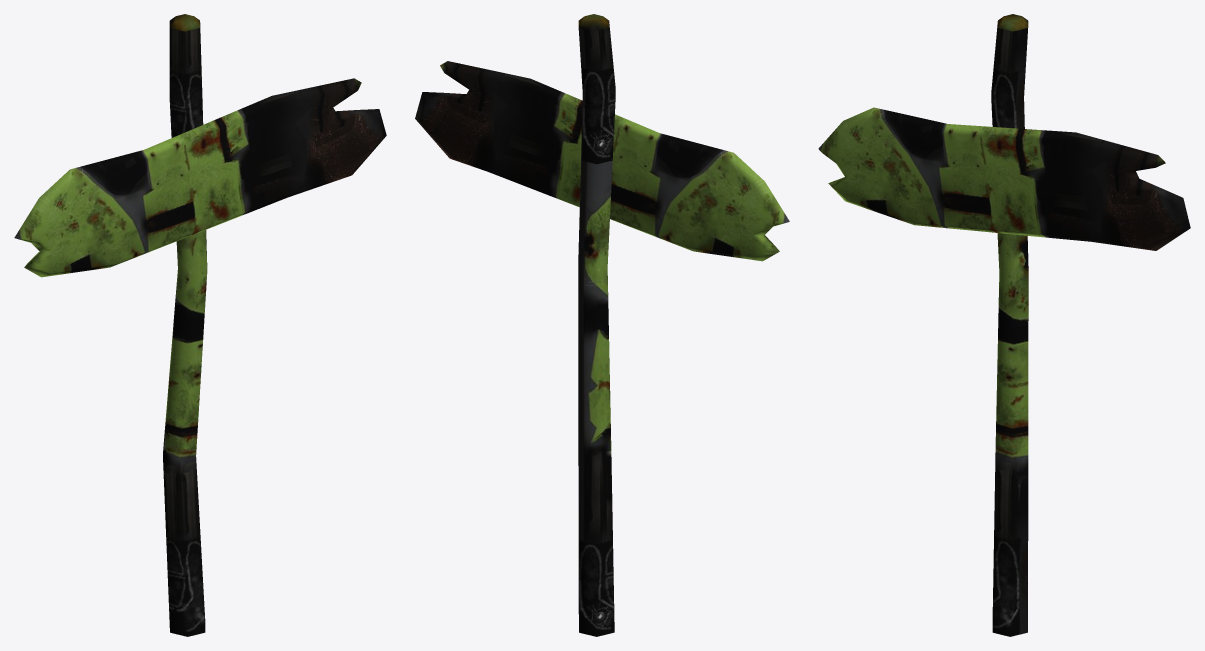
File: znak.glb
3 renders of one model, left to right at view 1: azimuth 30°, elevation 25°; view 2: azimuth 150°, elevation 25°; view 3: azimuth 330°, elevation 25°, orthographic.
Parts seen in each view (by area): view 1: Sign_1_aiStandardSurface8_0; view 2: Sign_1_aiStandardSurface8_0; view 3: Sign_1_aiStandardSurface8_0.
Part boxes in pixels (x1,y1,x2,y2): Sign_1_aiStandardSurface8_0: (14,14,386,636); Sign_1_aiStandardSurface8_0: (415,14,789,636); Sign_1_aiStandardSurface8_0: (818,14,1190,636).
Size of the model in its own units: 207 by 323 by 25.46.
1 material, 1 textured.
